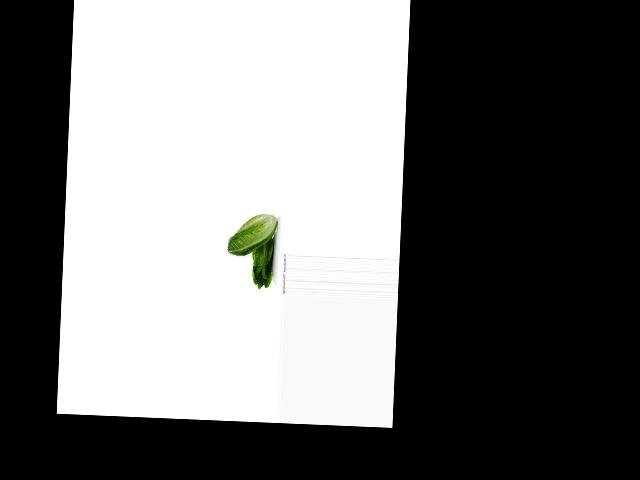lettuce: (245, 236, 281, 289)
